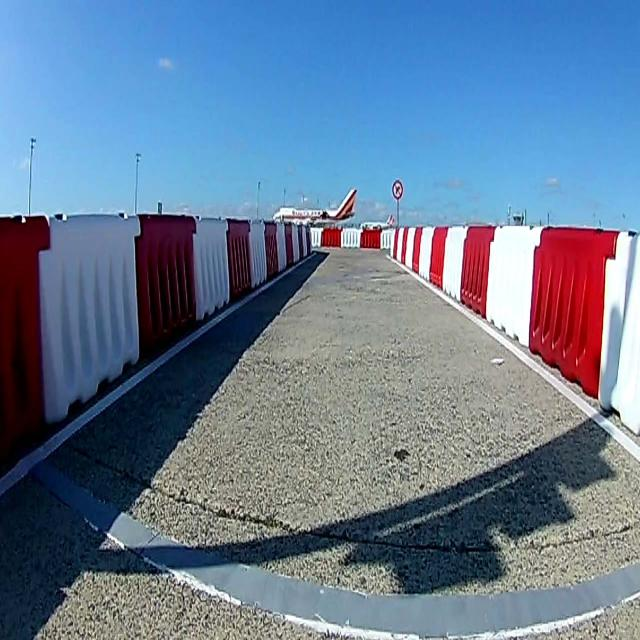sagadonulmez: (391, 178, 404, 202)
